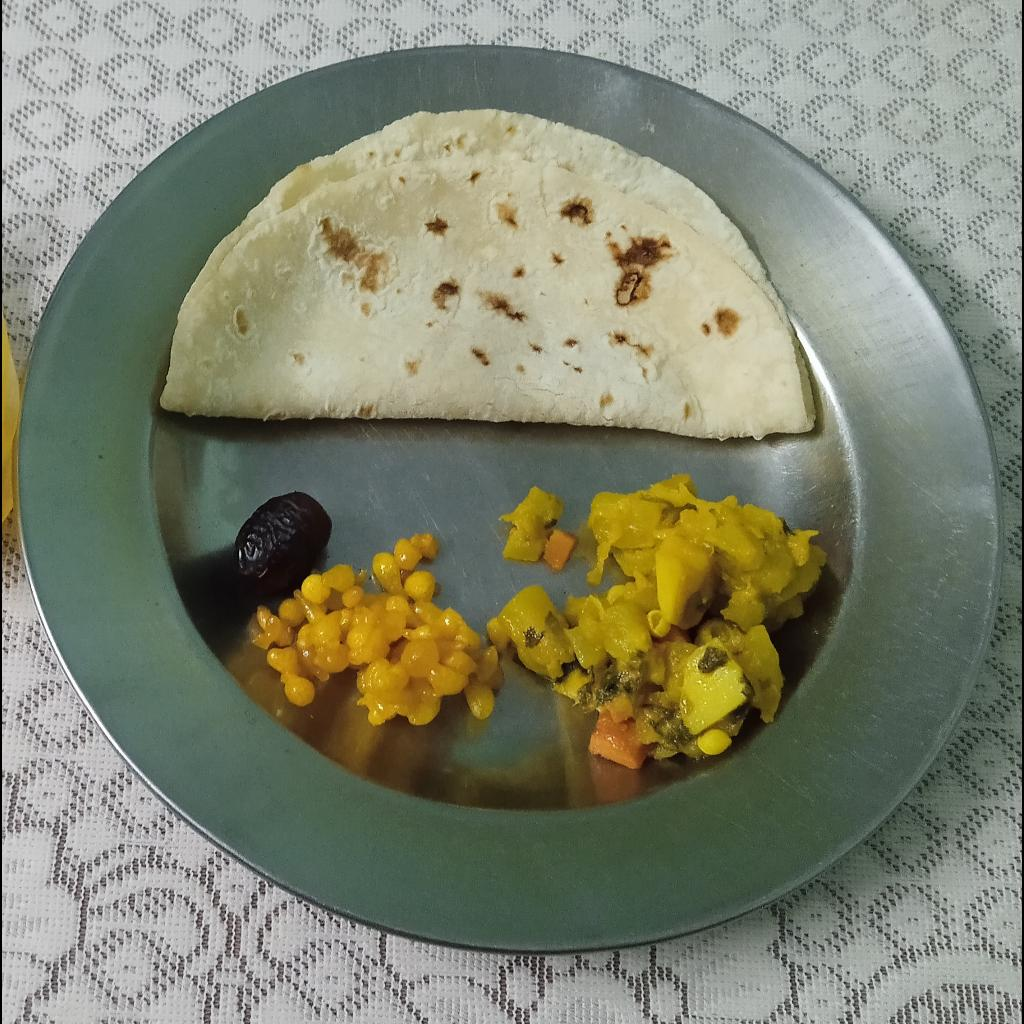burinda: (255, 534, 499, 726)
dates: (234, 491, 333, 589)
ruti: (162, 109, 818, 441)
vegetable: (487, 471, 827, 770)
